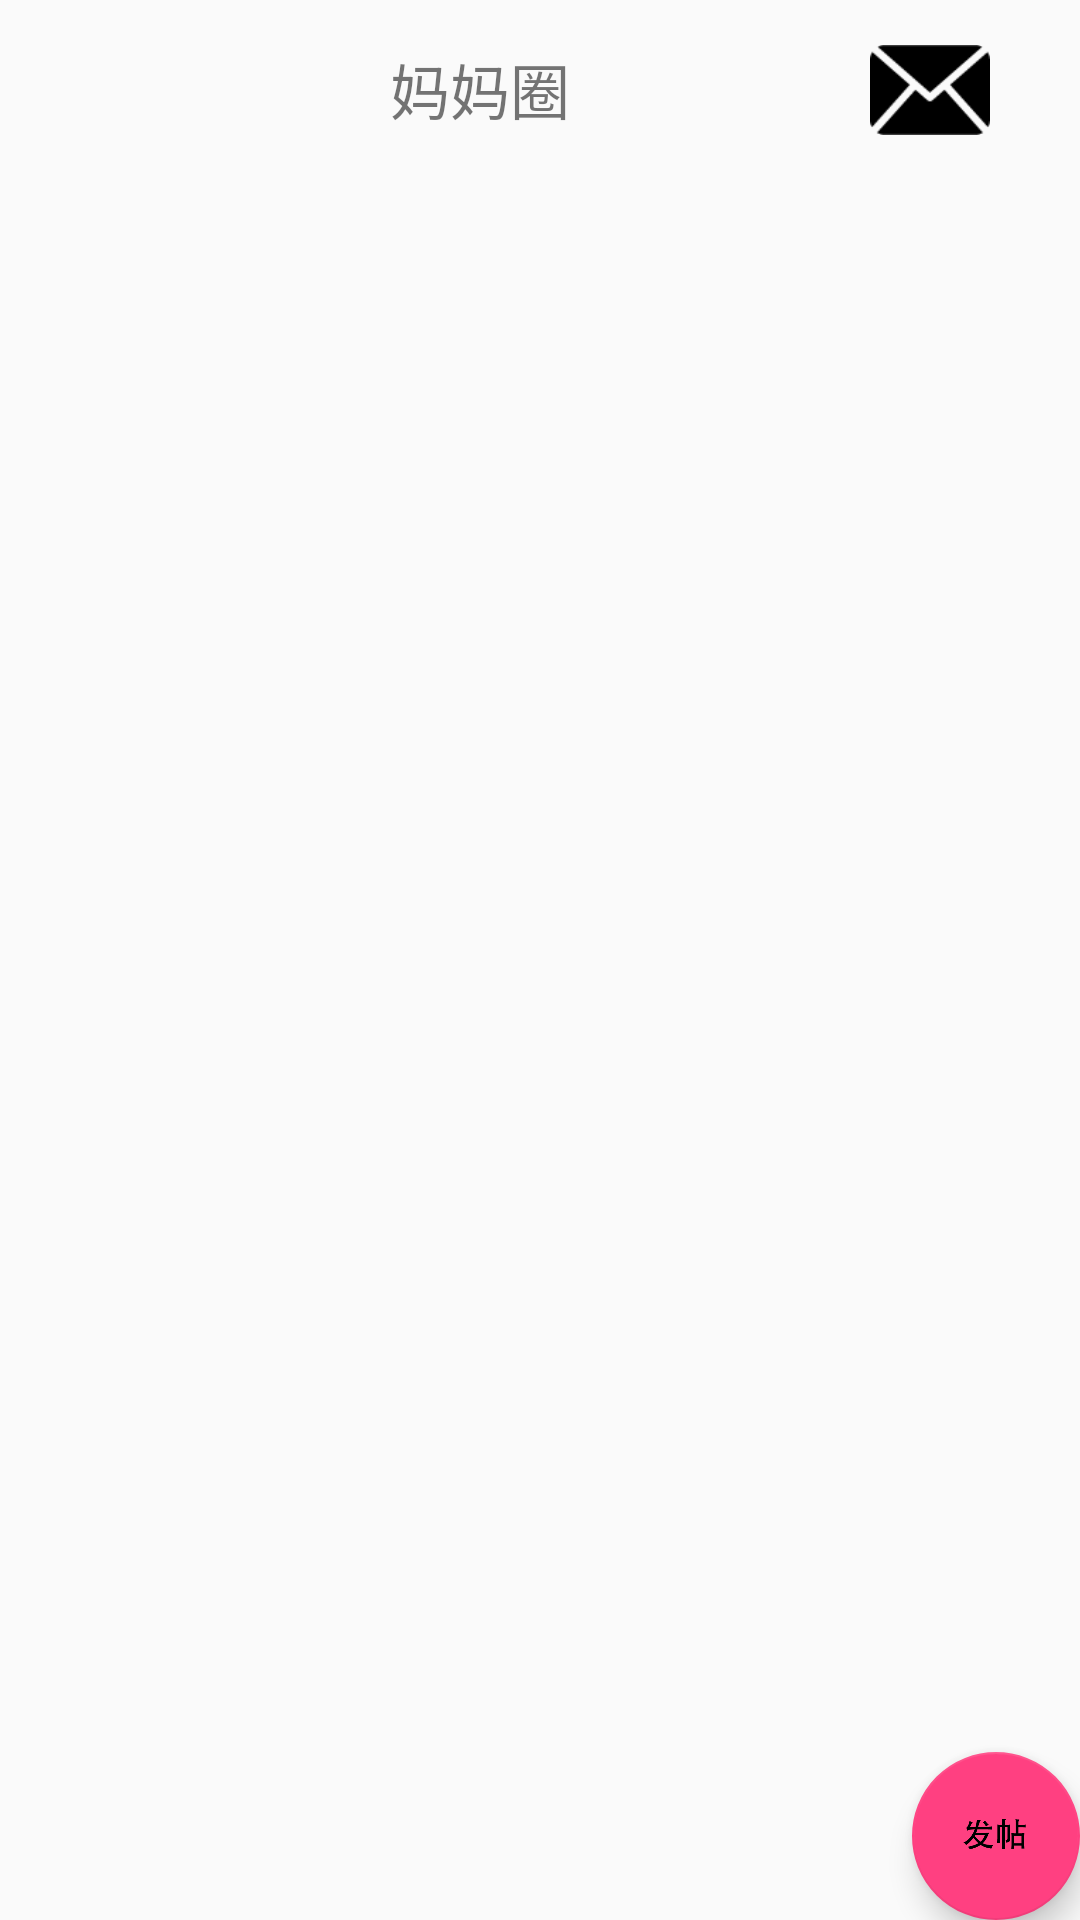

Screen size 1080px×1920px. Icon name, then its center in pixels as (x,y):
email: (930,90)
